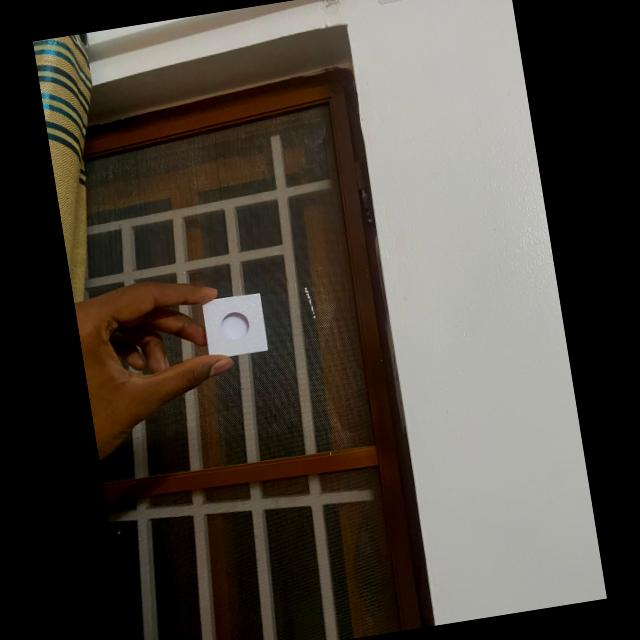RASPBERY PI CAM ENCLOSURE: (201, 292, 269, 359)
